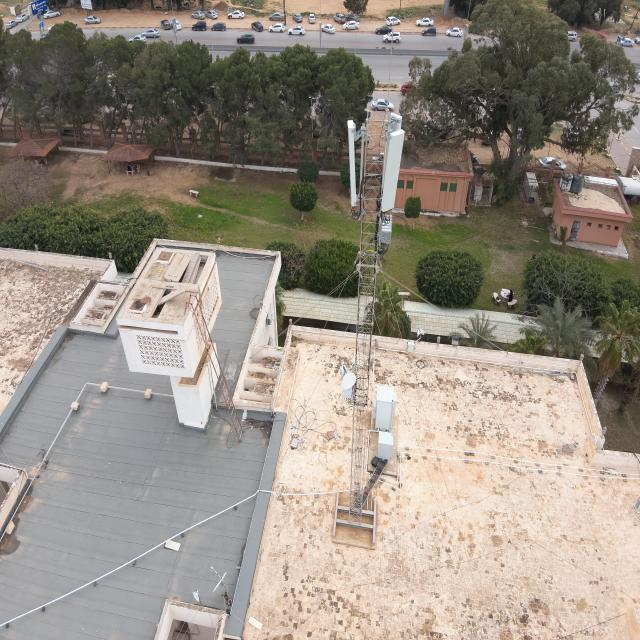antenna: (381, 128, 405, 214), (383, 109, 404, 200), (347, 119, 358, 207)
lighnig-rad: (386, 17, 396, 110)
microware-dish: (337, 361, 357, 392)
radio-unit: (378, 213, 393, 245)
